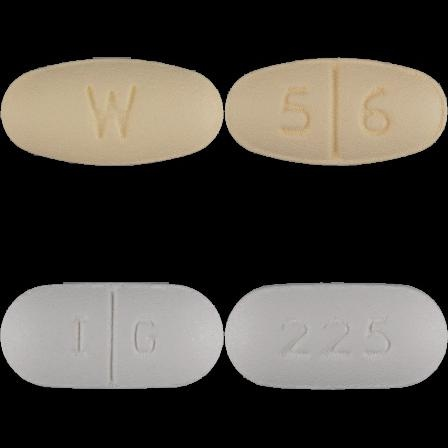51138-587: (0, 0, 224, 224)
